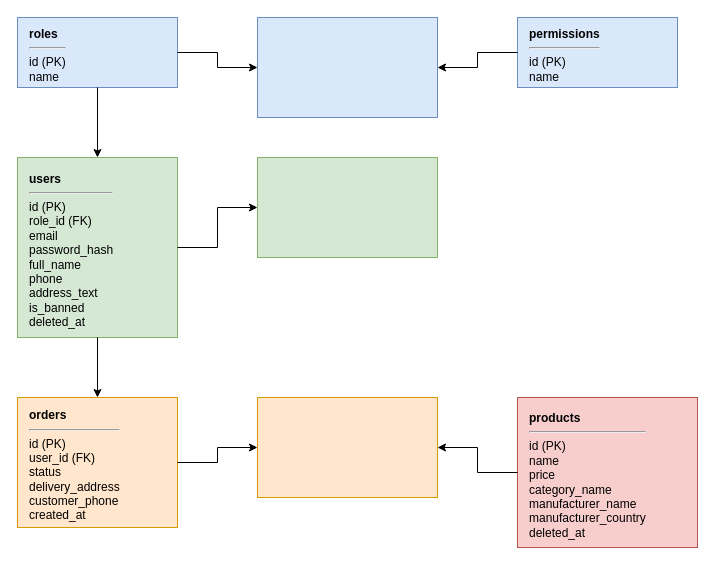
The diagram is 715 pixels wide and 565 high, and some of its shapes have lost their labels. The centre of each missing label's shape, as x and y in pixels:
order_items order_id (PK, FK) product_id (PK, FK) quantity fixed_price: (347,447)
role_permissions role_id (PK, FK) permission_id (PK, FK) assigned_at is_active: (347,67)
user_logs id (PK) user_id (FK) action created_at: (347,207)
